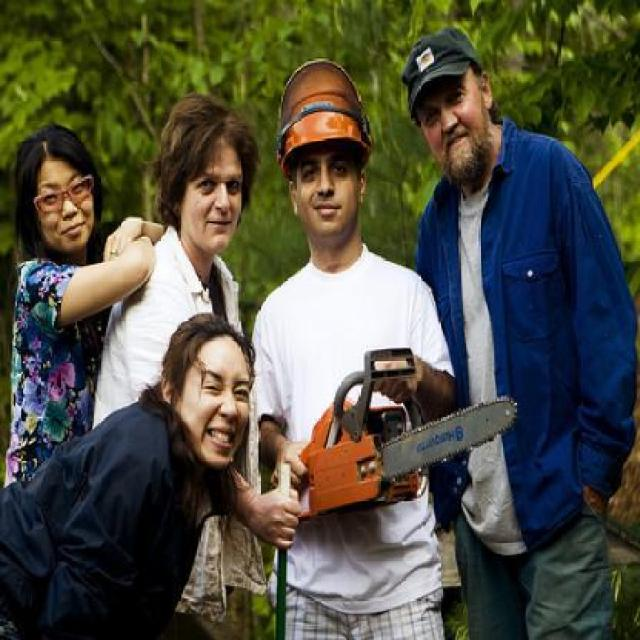Chainsaw: (286, 346, 519, 523)
